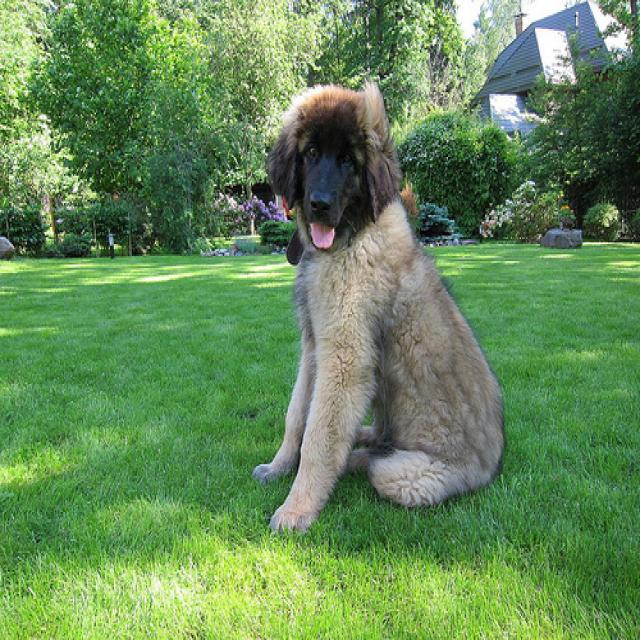dog-leonberger: (242, 68, 515, 538)
